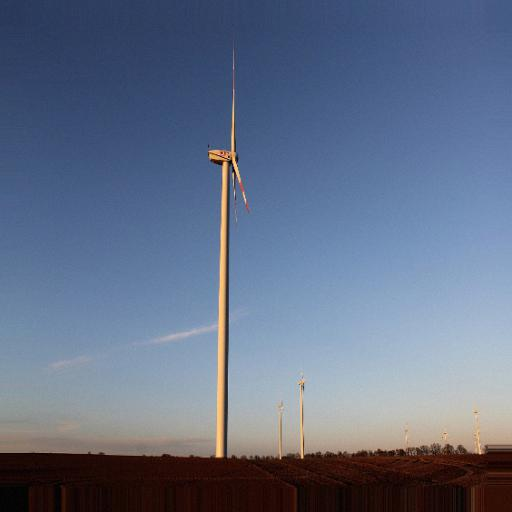wind turbine: (206, 34, 253, 458)
